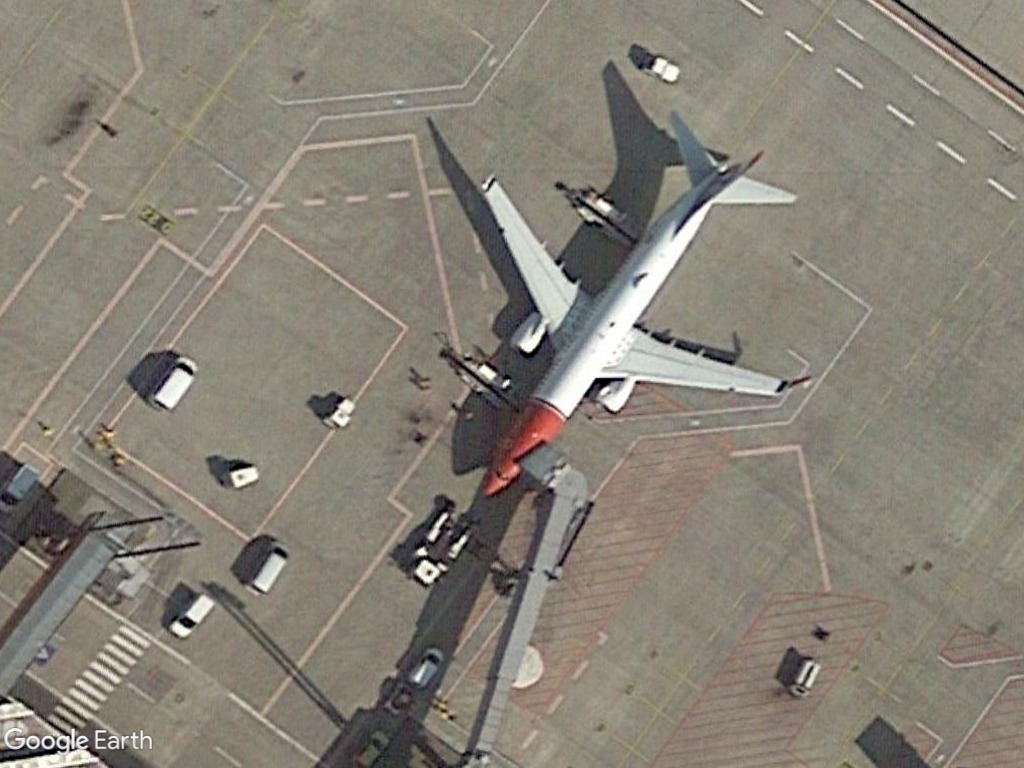airliner: (461, 105, 802, 497)
pushbacktruck: (412, 505, 476, 589)
van: (140, 347, 206, 422), (242, 532, 298, 607), (158, 583, 221, 643)
